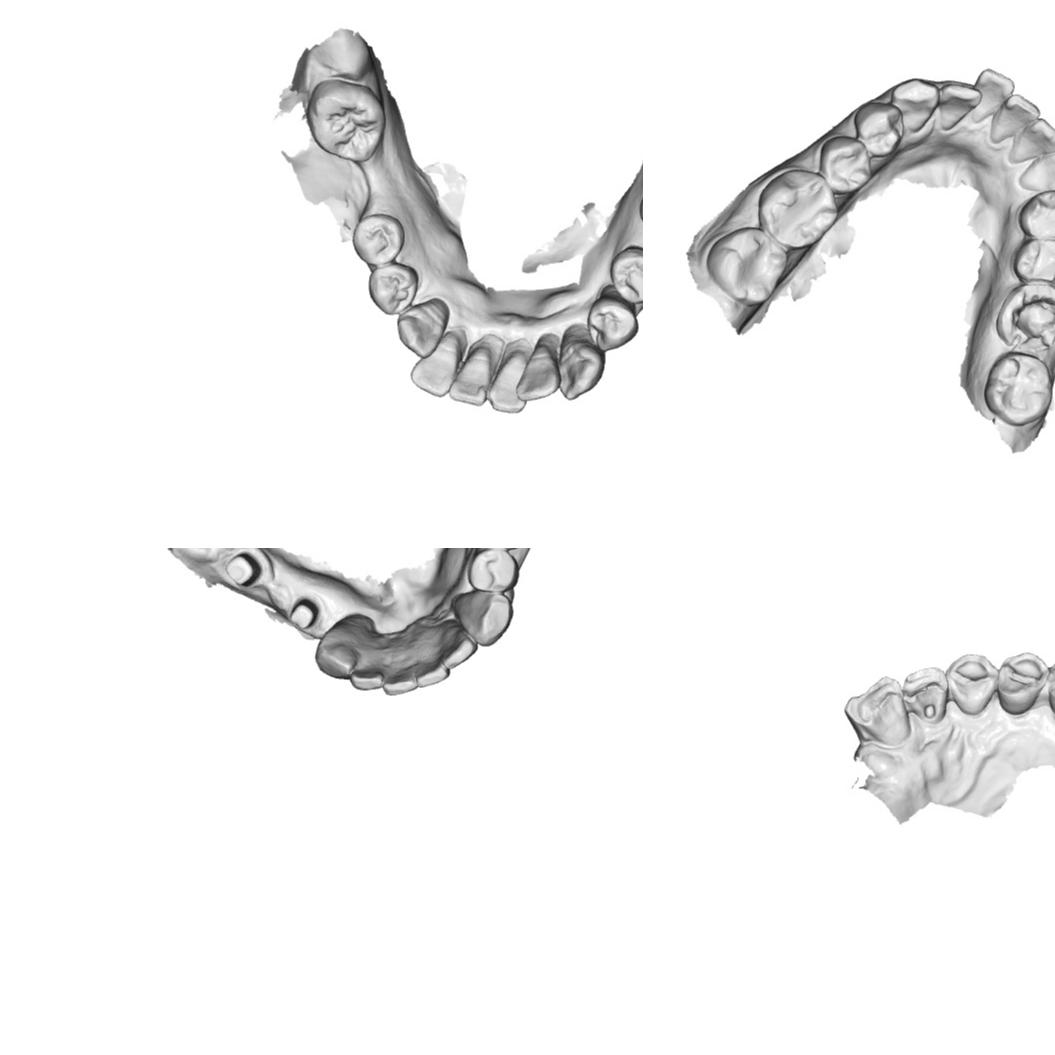abutment: (221, 548, 263, 590), (285, 595, 321, 634)
canine: (313, 611, 374, 682), (448, 588, 515, 648), (555, 335, 608, 403), (946, 652, 1000, 717), (395, 299, 450, 358), (890, 74, 942, 136), (1018, 145, 1055, 196)
incisor: (843, 674, 911, 746), (407, 332, 465, 400), (441, 342, 498, 408), (485, 343, 532, 416), (512, 342, 562, 404), (901, 665, 950, 725), (988, 92, 1042, 145), (936, 74, 982, 135), (973, 67, 1015, 131), (346, 634, 389, 693), (414, 622, 449, 690), (1005, 117, 1055, 164), (437, 617, 478, 673), (381, 640, 417, 697)
molar: (756, 166, 840, 252), (306, 76, 387, 165), (707, 223, 790, 308), (982, 351, 1054, 428), (993, 280, 1055, 358)
premolar: (816, 133, 873, 196), (996, 651, 1050, 716), (584, 295, 642, 355), (851, 99, 906, 160), (365, 262, 425, 317), (350, 211, 407, 267), (1015, 188, 1055, 254), (465, 548, 521, 594), (1010, 236, 1055, 291), (608, 243, 643, 307)
